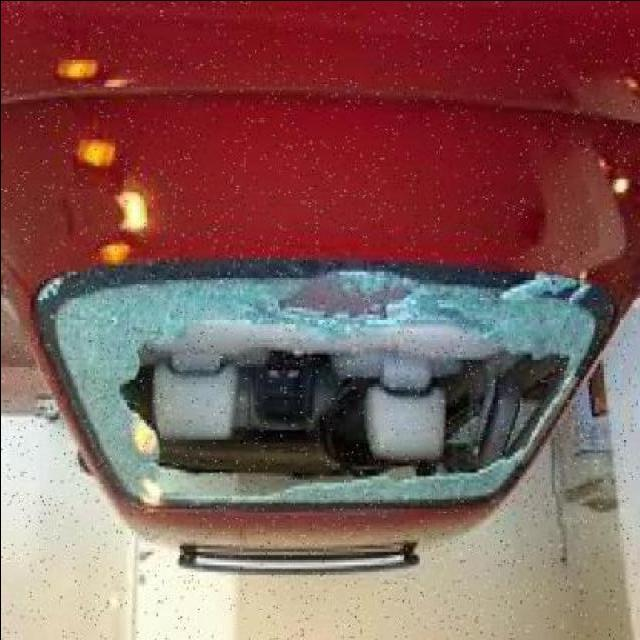Rear-windscreen-Damage: (30, 229, 623, 523)
